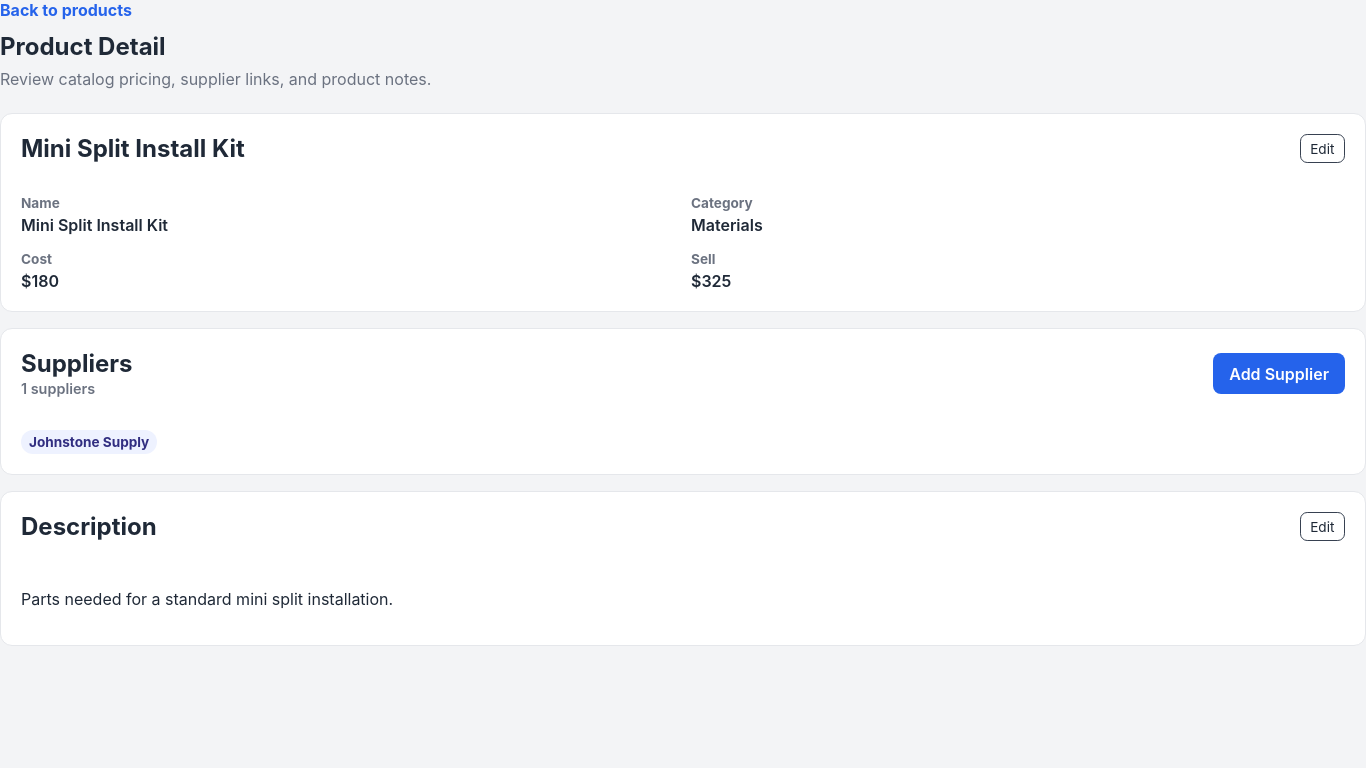
ProductDetailPage › updates the product description box
Expected: the element "Description" is shown, [0,491,1365,646]
Step 1. Click the button "Edit" in the row of "Description" → (1322, 527), box [1300,512,1345,541]
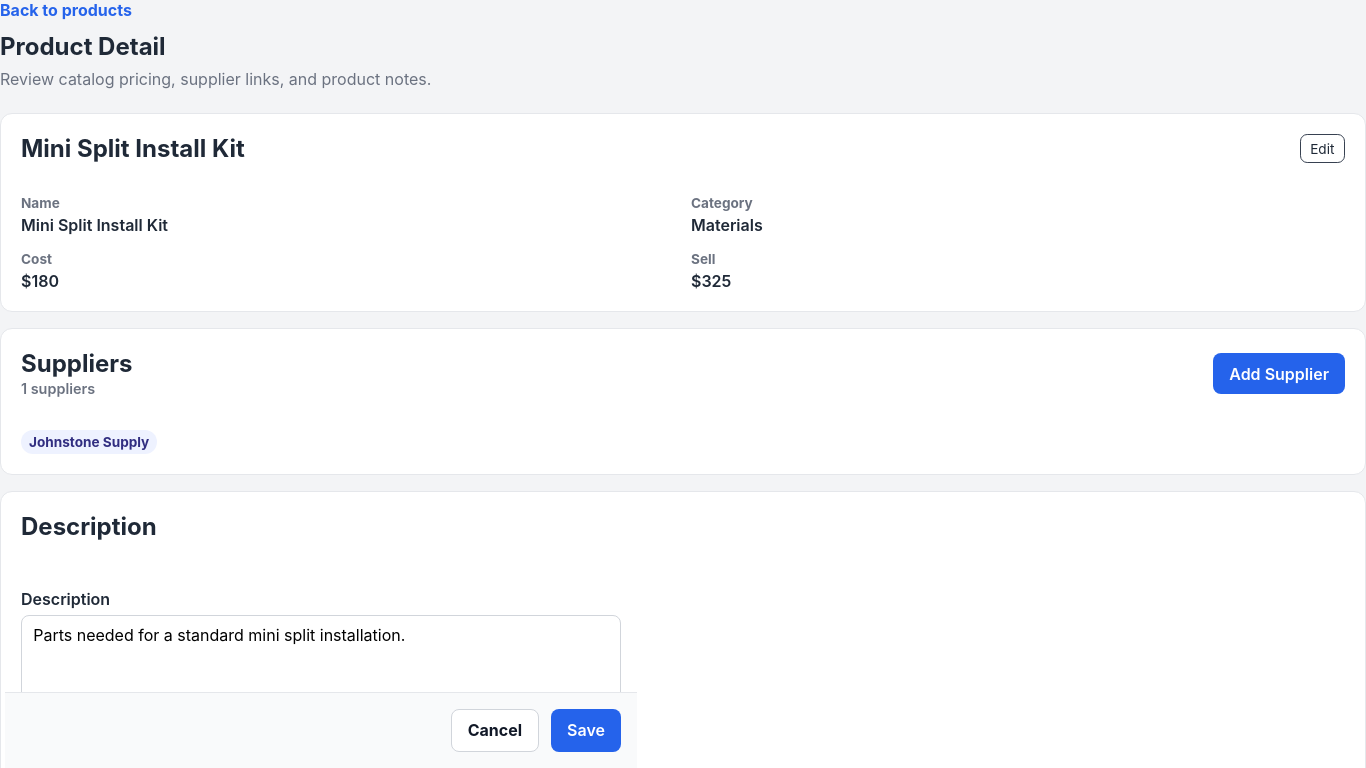
Step 2. Replace the text in the text box labelled "Description" with "Updated install notes." → (321, 679), box [21,615,621,743]
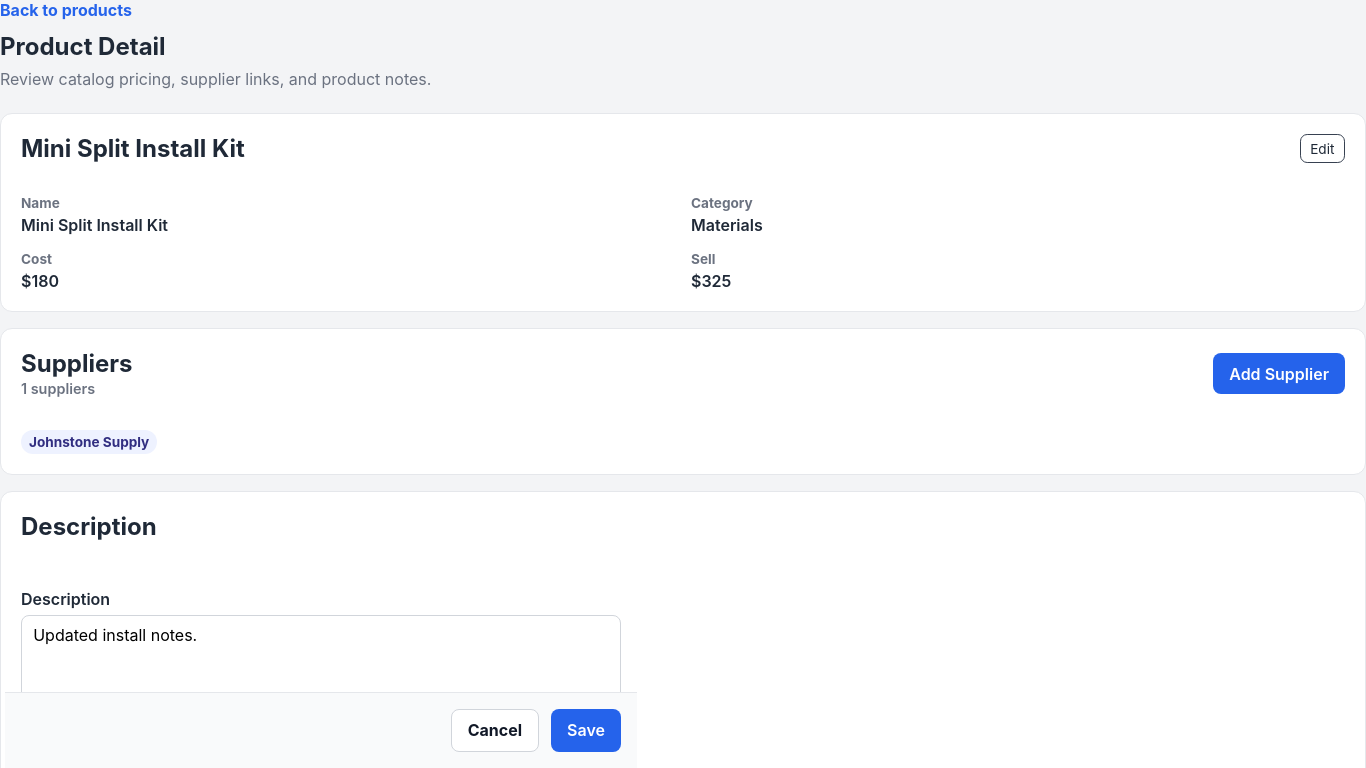
Step 3. Click the button "Save" → (586, 731), box [551,709,621,752]
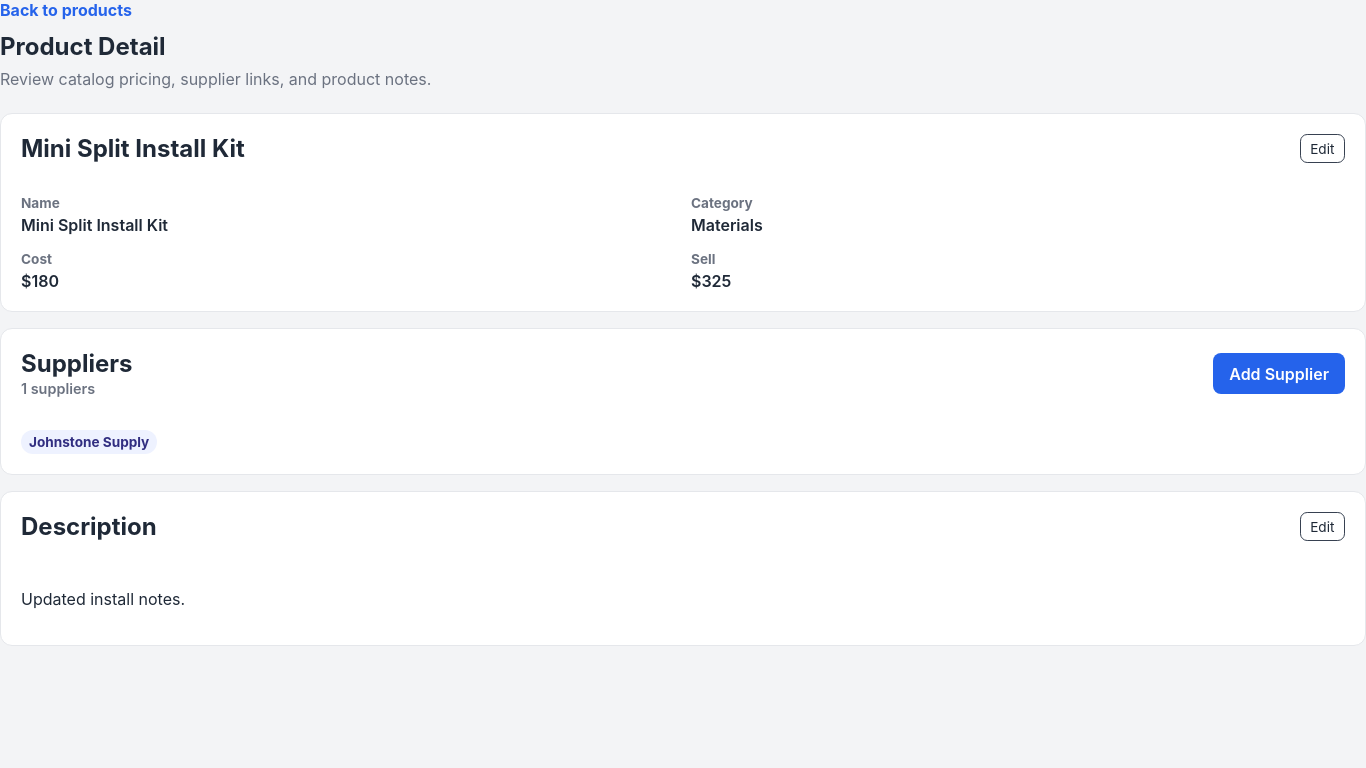
Result: the text "Updated install notes." is shown at [21,589,185,609]
